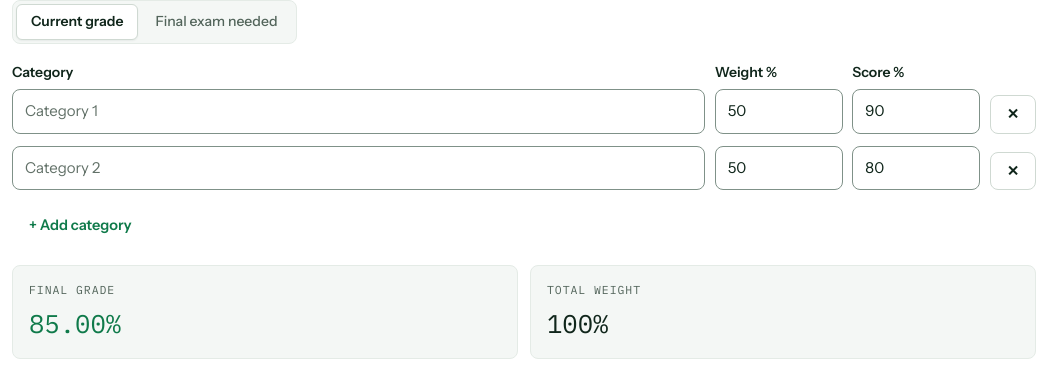
Test: GradeCalculator › notes when the target is already secured (≤0% needed)
This screenshot has width=1048, height=376.
Step 1. Click the tab "Final exam needed" → click(216, 22), box [140,4,292,40]
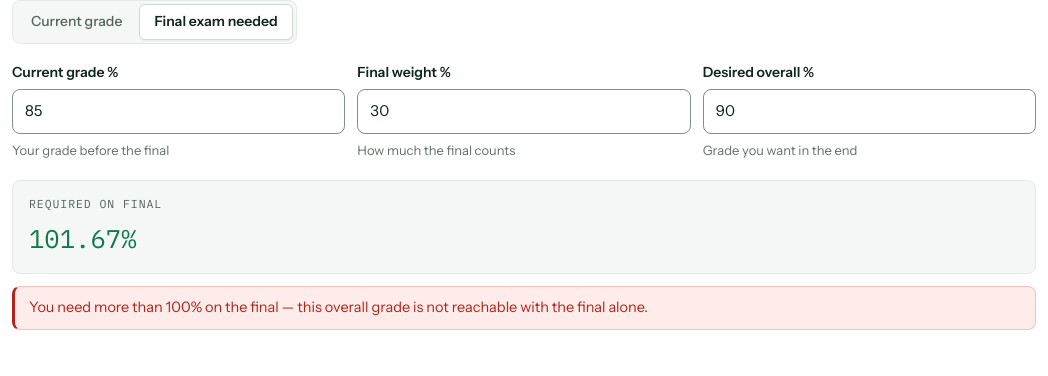
Step 2. Type "95" into the number field with placeholder "85" → (179, 112), box [12,89,345,134]
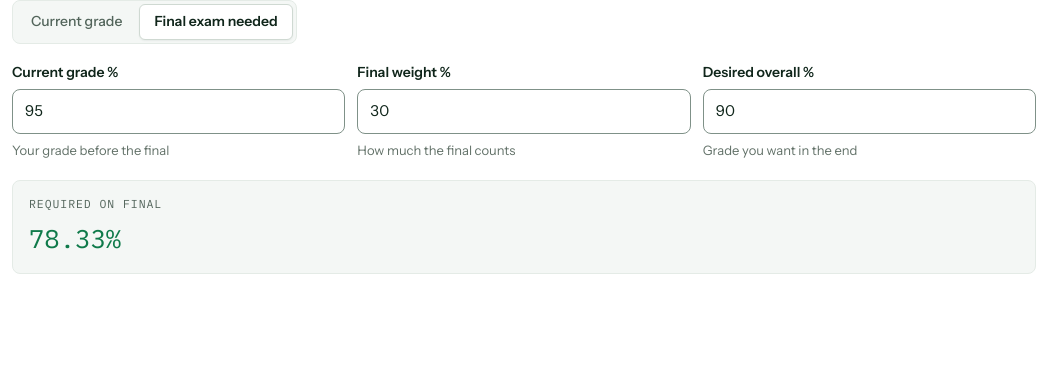
Step 3. Type "20" into the number field with placeholder "30" → (524, 112), box [357,89,691,134]
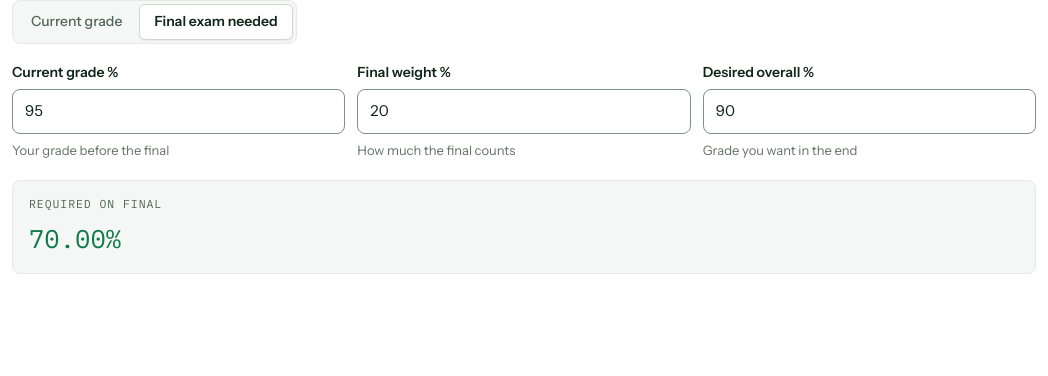
Step 4. Type "70" into the number field with placeholder "90" → (869, 112), box [703,89,1036,134]
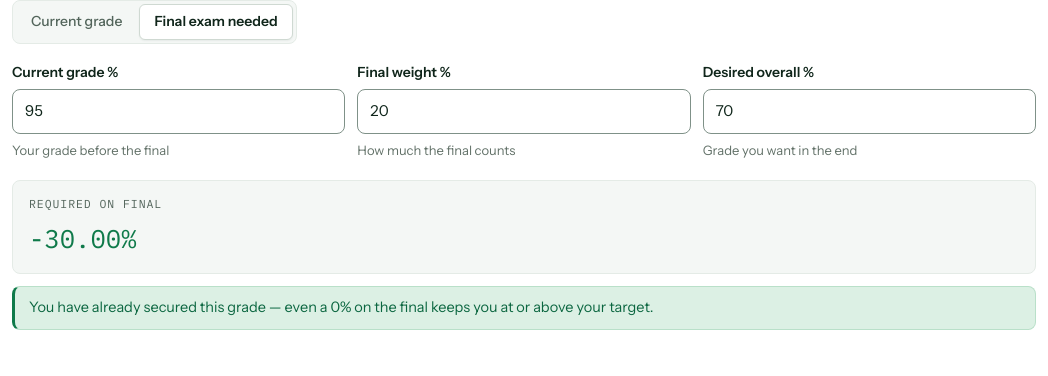
Expected: the text "already secured" is shown, [29,298,653,316]
